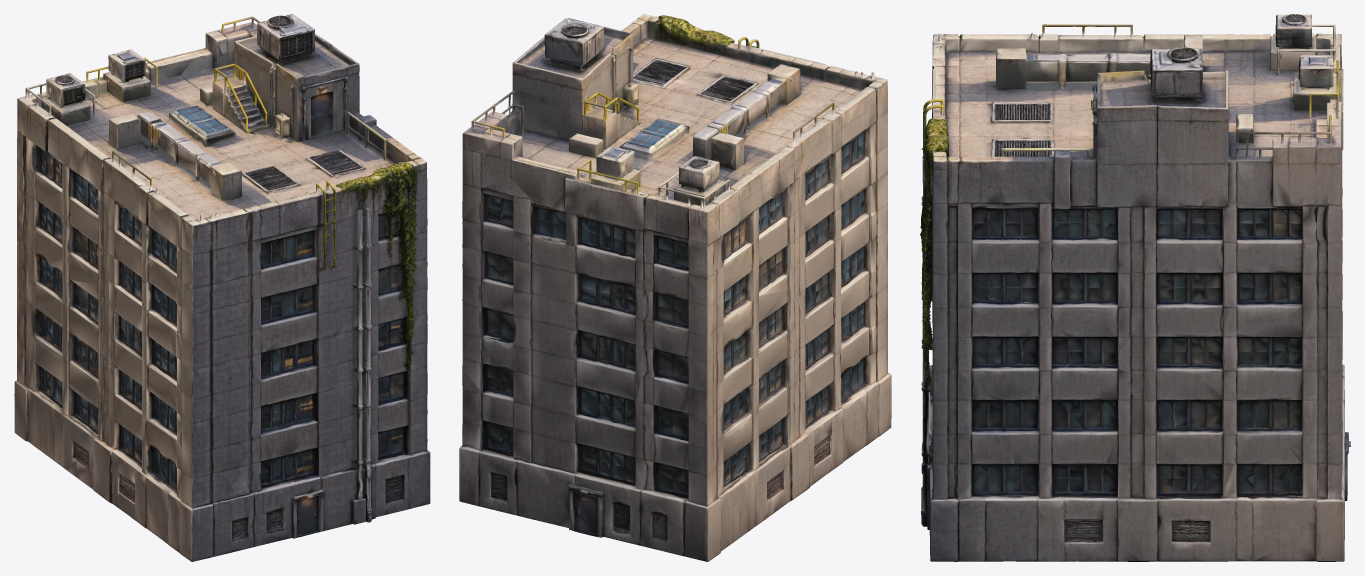
The model's file is roof-01.glb.
3 renders of one model, left to right at view 1: azimuth 30°, elevation 25°; view 2: azimuth 150°, elevation 25°; view 3: azimuth 270°, elevation 25°, orthographic. The views are drawn at different scales.
Visible parts, largest first — view 1: tripo_node_dca77b62-47d1-4d60-92c3-b8227ee55b4e; view 2: tripo_node_dca77b62-47d1-4d60-92c3-b8227ee55b4e; view 3: tripo_node_dca77b62-47d1-4d60-92c3-b8227ee55b4e.
Boxes of the visible parts, bbox=[...] form: tripo_node_dca77b62-47d1-4d60-92c3-b8227ee55b4e: bbox=[14, 14, 430, 561]; tripo_node_dca77b62-47d1-4d60-92c3-b8227ee55b4e: bbox=[459, 14, 891, 561]; tripo_node_dca77b62-47d1-4d60-92c3-b8227ee55b4e: bbox=[920, 14, 1350, 561].
Size of the model in its own units: 0.5982 by 0.9799 by 0.7872.
Materials: 1 (1 with a texture image).
